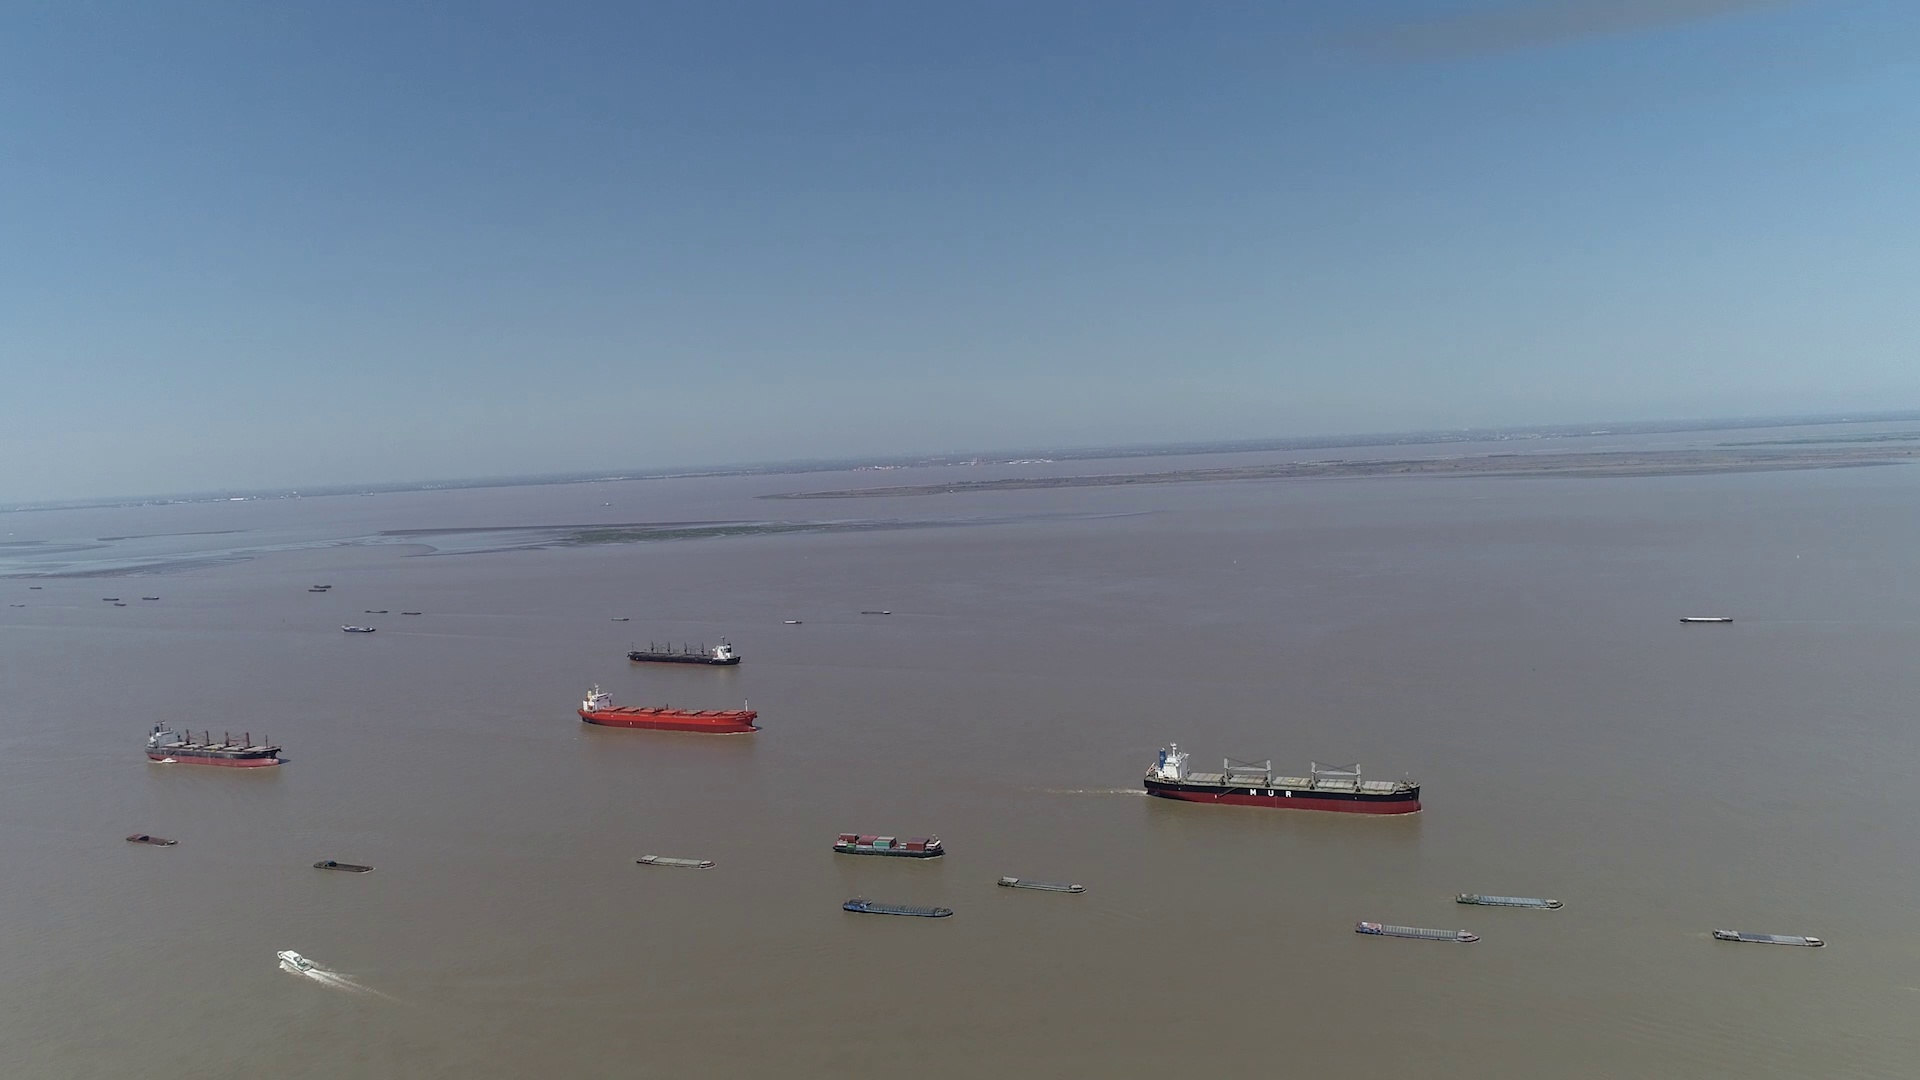ship: (1141, 741, 1425, 814), (578, 684, 754, 733), (144, 721, 284, 767), (832, 832, 945, 858), (625, 640, 738, 666), (1354, 919, 1480, 943), (843, 898, 953, 920), (1712, 928, 1824, 948), (1455, 890, 1563, 909), (998, 874, 1084, 893), (636, 853, 717, 868), (277, 951, 314, 972), (316, 860, 371, 873), (125, 833, 178, 847), (1683, 615, 1731, 622), (342, 624, 378, 633)
